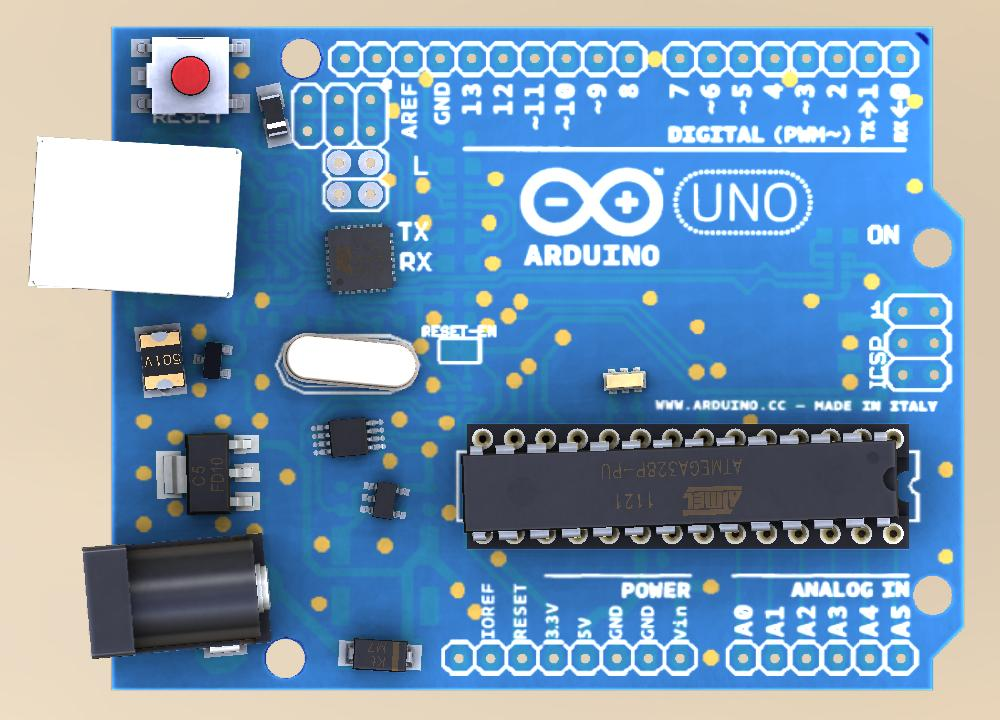ATMEL328P: (454, 421, 911, 550)
ATMega16u2: (320, 221, 401, 297)
CD1206: (251, 77, 293, 150)
Crystal: (274, 329, 422, 398)
Fuse: (130, 320, 187, 402)
LMV358: (354, 473, 419, 526)
M7 diode: (337, 633, 426, 677)
Power: (71, 533, 270, 662)
Regulator: (131, 415, 282, 533)
Reset: (127, 34, 249, 121)
SSOT3: (189, 337, 235, 384)
USB: (26, 134, 242, 302)
lp2985: (309, 413, 387, 462)
